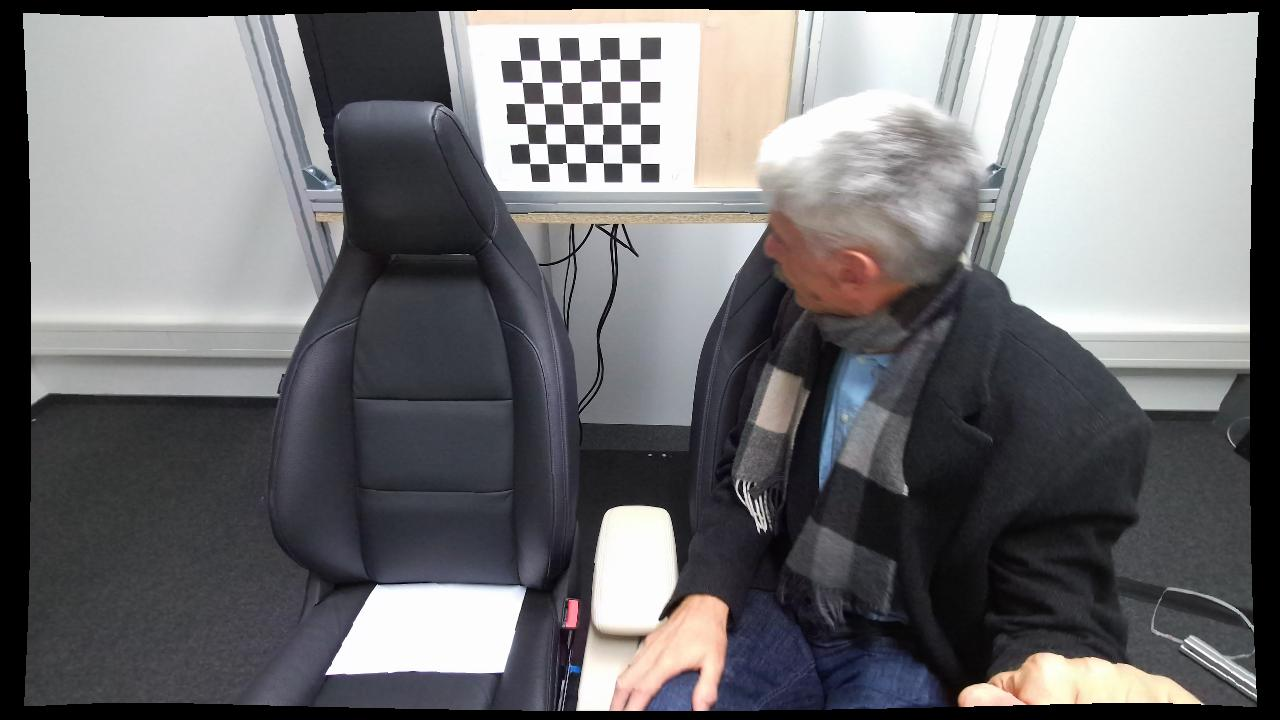Distracted: (664, 94, 1137, 710)
